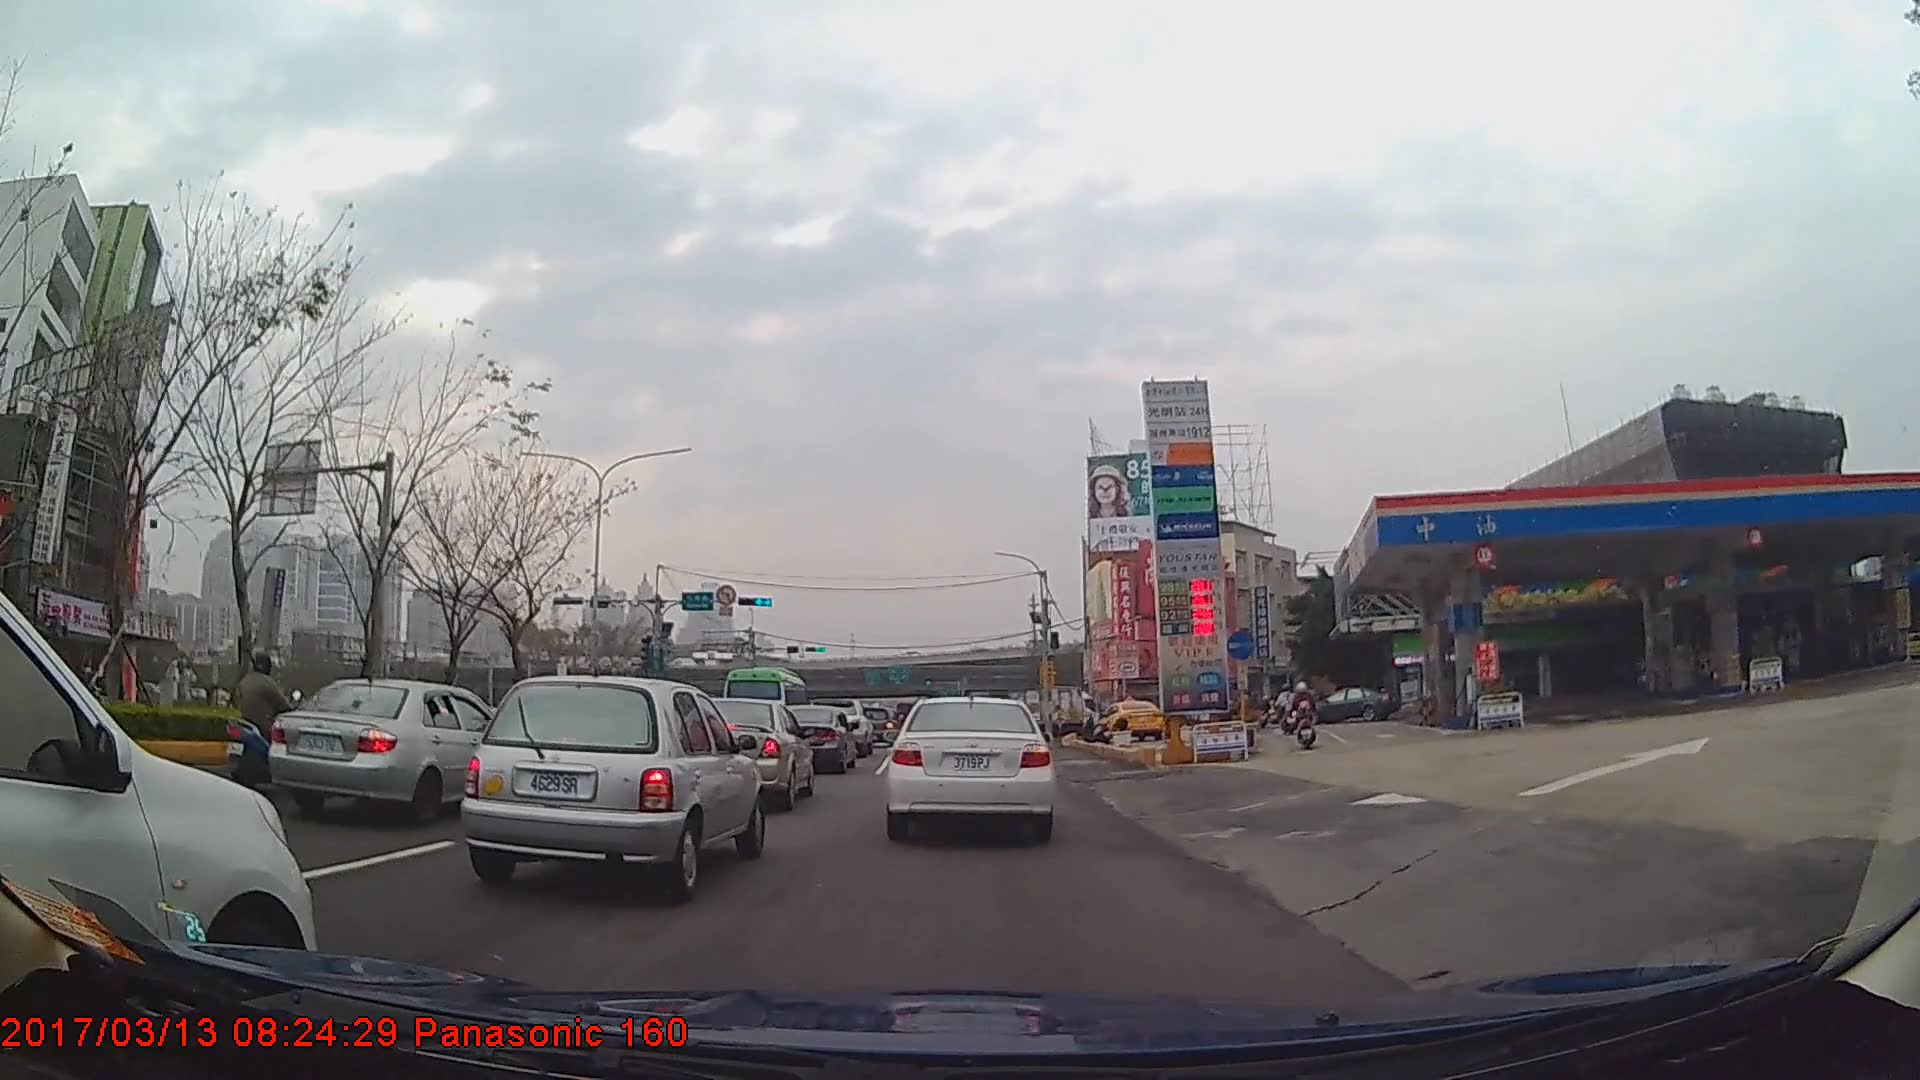rider: (224, 649, 307, 792), (1290, 684, 1319, 750), (1276, 685, 1299, 739)
vehicle: (0, 593, 319, 1013), (458, 672, 767, 897), (267, 677, 527, 824), (883, 691, 1055, 842), (678, 694, 814, 813), (721, 664, 812, 736), (774, 703, 857, 773), (1007, 686, 1100, 741), (1298, 685, 1397, 723), (1101, 699, 1163, 742)
